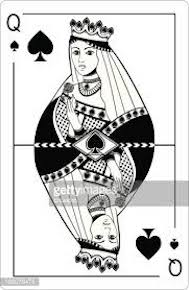QueenOfSpades: (1, 1, 187, 289)
